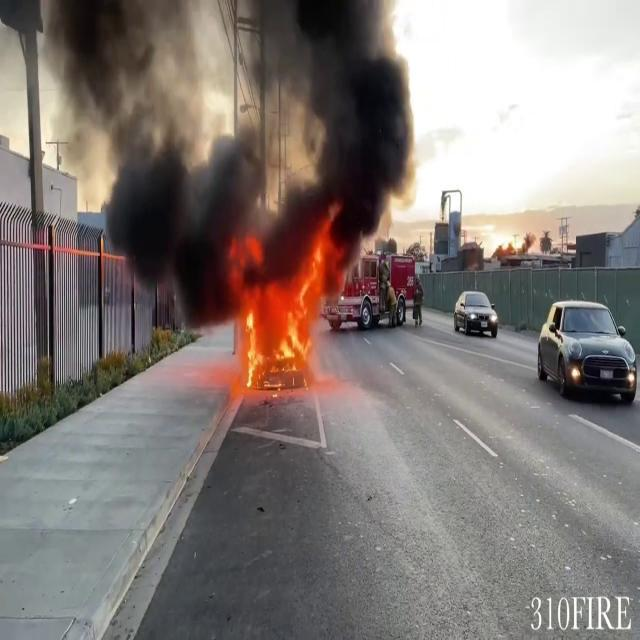Fire: (234, 242, 330, 390)
Smoke: (49, 0, 422, 277)
